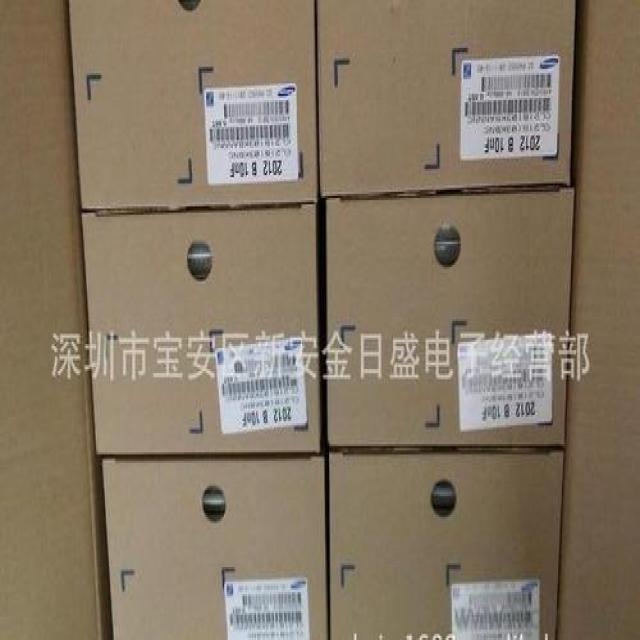box: (321, 172, 578, 453), (80, 202, 326, 464), (318, 0, 586, 205), (70, 0, 324, 205), (324, 443, 562, 640), (98, 454, 330, 640)
